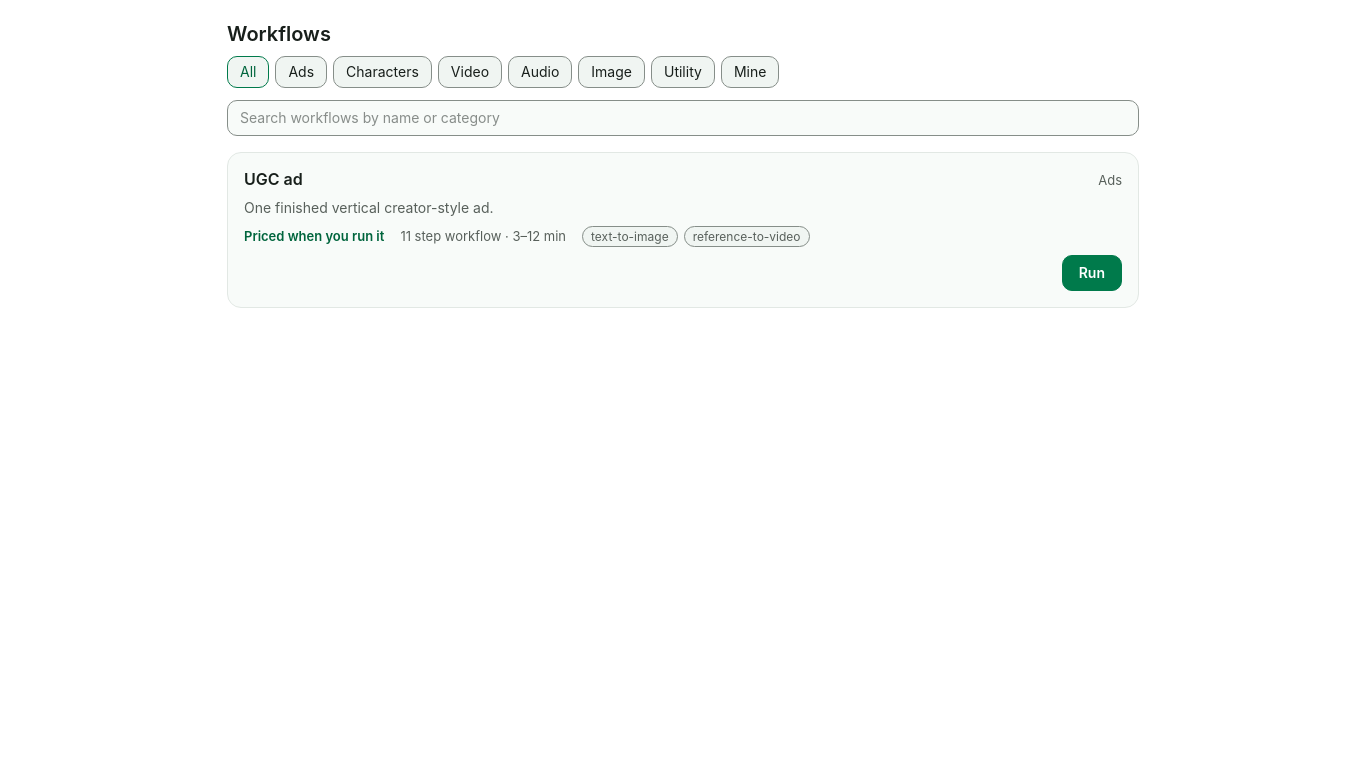
Test: workflow catalogue (F-WFL-01) › opens the intake drawer when Run is clicked
Click the button with class "workflow-run-button".
click(1092, 273)  # box [1062,255,1122,291]
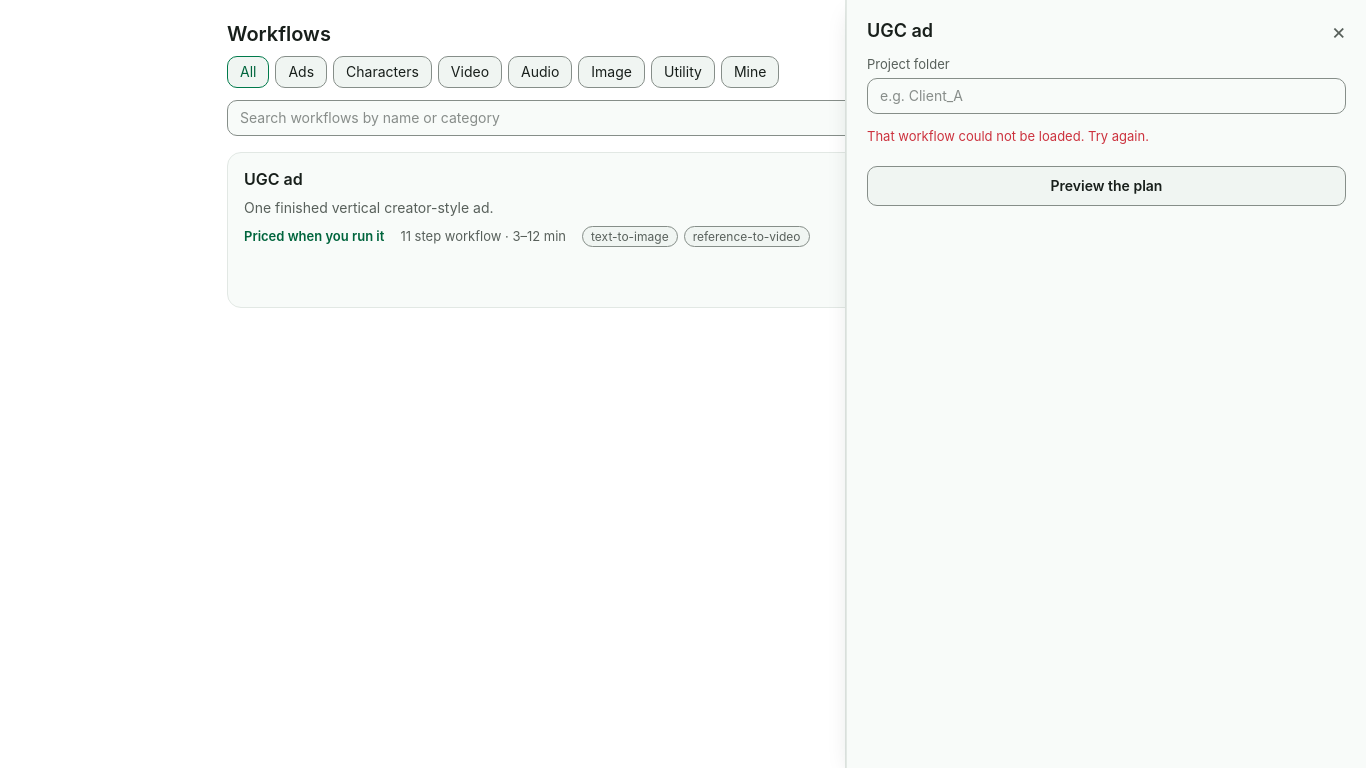
Check: the dialog with class "workflow-drawer" is shown, box [846,0,1365,767]
